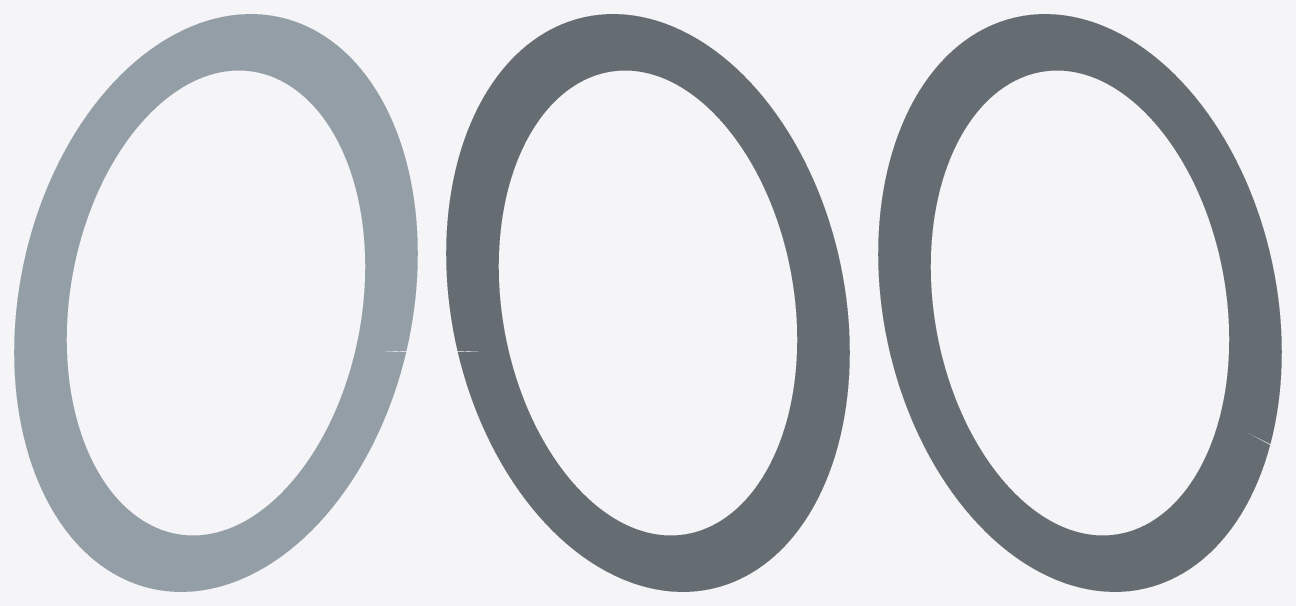
File: Xiangling_PyronadoTrigger_SingleTarget_PyronadoActualOrbitTail.fbx
3 renders of one model, left to right at view 1: azimuth 30°, elevation 25°; view 2: azimuth 150°, elevation 25°; view 3: azimuth 330°, elevation 25°, orthographic.
Parts seen in each view (by area): view 1: PART_PyronadoActualRecentOrbitTail; view 2: PART_PyronadoActualRecentOrbitTail; view 3: PART_PyronadoActualRecentOrbitTail.
Part boxes in pixels (<box>): PART_PyronadoActualRecentOrbitTail: <box>14,14,417,591</box>; PART_PyronadoActualRecentOrbitTail: <box>446,14,849,591</box>; PART_PyronadoActualRecentOrbitTail: <box>878,14,1281,591</box>.
Bounding box in the file's own units: 184 × 248 × 4.04e-05.
